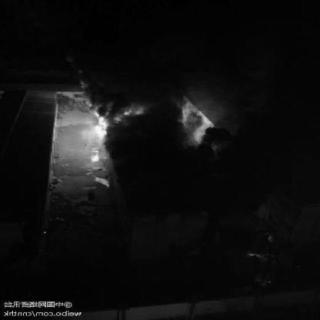Fire: (89, 99, 118, 143), (80, 147, 103, 167)
